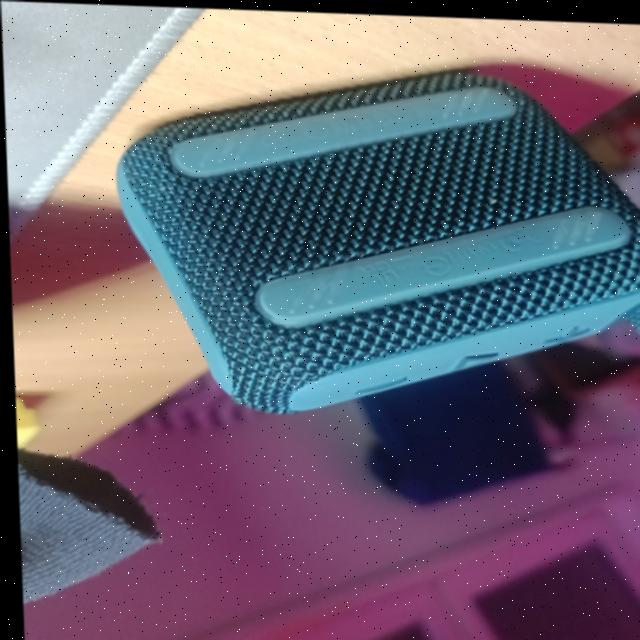column JBL: (107, 55, 640, 427)
